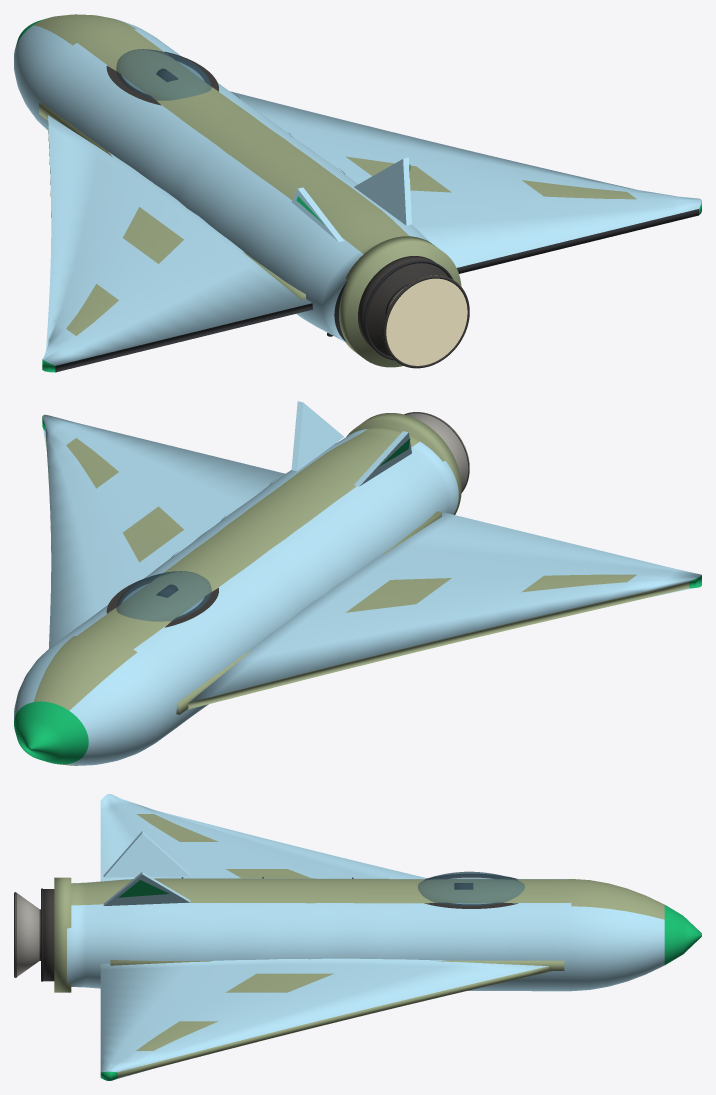
Rendered from Ship_Longwing_4.glb.
3 renders of one model, top to bottom at view 1: azimuth 30°, elevation 25°; view 2: azimuth 150°, elevation 25°; view 3: azimuth 270°, elevation 25°, orthographic. The views are drawn at different scales.
Visible parts, largest first — view 1: Fuselage_OrganicEllipsoidTaperedBody_BakedPaint, Wing_Left_LongDeltaAerofoil_BakedPaint, Wing_Right_LongDeltaAerofoil_BakedPaint, EngineEmitter, AftCollar_IntegratedSingleEngineBand, CanopyGlass_LowInsetDome, EngineBlock_AftDarkSingleEngineHousing, TailFin_Right_CantedStabilizer, CanopyFrame_DorsalOvalRim, EngineLip_Center_DarkWideRim, WingRoot_Left_EmbeddedShoulder, TailFin_Left_CantedStabilizer (+1 smaller); view 2: Fuselage_OrganicEllipsoidTaperedBody_BakedPaint, Wing_Left_LongDeltaAerofoil_BakedPaint, Wing_Right_LongDeltaAerofoil_BakedPaint, CanopyGlass_LowInsetDome, TailFin_Right_CantedStabilizer, AftCollar_IntegratedSingleEngineBand, EngineBell_Center_BroadBurnishedNozzle, CanopyFrame_DorsalOvalRim, TailFin_Left_CantedStabilizer, WingRoot_Left_EmbeddedShoulder; view 3: Fuselage_OrganicEllipsoidTaperedBody_BakedPaint, Wing_Right_LongDeltaAerofoil_BakedPaint, Wing_Left_LongDeltaAerofoil_BakedPaint, CanopyGlass_LowInsetDome, TailFin_Left_CantedStabilizer, AftCollar_IntegratedSingleEngineBand, EngineBell_Center_BroadBurnishedNozzle, TailFin_Right_CantedStabilizer, EngineBlock_AftDarkSingleEngineHousing, WingRoot_Right_EmbeddedShoulder, CanopyFrame_DorsalOvalRim, TailFin_Right_BakedTrimPatch.
Boxes of the visible parts, x1,y1,x2,y2 form: Fuselage_OrganicEllipsoidTaperedBody_BakedPaint: (14,14,429,342); Wing_Left_LongDeltaAerofoil_BakedPaint: (42,115,313,372); Wing_Right_LongDeltaAerofoil_BakedPaint: (230,91,701,273); EngineEmitter: (386,278,467,365); AftCollar_IntegratedSingleEngineBand: (339,236,461,367); CanopyGlass_LowInsetDome: (116,49,211,100); EngineBlock_AftDarkSingleEngineHousing: (358,256,448,356); TailFin_Right_CantedStabilizer: (354,157,411,225); CanopyFrame_DorsalOvalRim: (106,51,218,105); EngineLip_Center_DarkWideRim: (383,275,469,368); WingRoot_Left_EmbeddedShoulder: (39,102,305,299); TailFin_Left_CantedStabilizer: (291,187,344,241); Fuselage_OrganicEllipsoidTaperedBody_BakedPaint: (14,428,458,765); Wing_Left_LongDeltaAerofoil_BakedPaint: (187,512,701,709); Wing_Right_LongDeltaAerofoil_BakedPaint: (42,414,285,648); CanopyGlass_LowInsetDome: (116,571,211,621); TailFin_Right_CantedStabilizer: (291,401,343,471); AftCollar_IntegratedSingleEngineBand: (346,413,461,514); EngineBell_Center_BroadBurnishedNozzle: (404,412,469,492); CanopyFrame_DorsalOvalRim: (106,574,218,627); TailFin_Left_CantedStabilizer: (354,431,411,486); WingRoot_Left_EmbeddedShoulder: (176,511,441,714); Fuselage_OrganicEllipsoidTaperedBody_BakedPaint: (67,878,701,991); Wing_Right_LongDeltaAerofoil_BakedPaint: (100,958,551,1080); Wing_Left_LongDeltaAerofoil_BakedPaint: (100,794,426,881); CanopyGlass_LowInsetDome: (418,871,524,906); TailFin_Left_CantedStabilizer: (103,831,190,877); AftCollar_IntegratedSingleEngineBand: (54,877,71,992); EngineBell_Center_BroadBurnishedNozzle: (15,892,39,977); TailFin_Right_CantedStabilizer: (103,872,190,905); EngineBlock_AftDarkSingleEngineHousing: (43,889,54,981); WingRoot_Right_EmbeddedShoulder: (110,960,564,970); CanopyFrame_DorsalOvalRim: (424,874,518,908); TailFin_Right_BakedTrimPatch: (118,880,169,897).
Bounding box in the file's own units: 6.83 × 1.57 × 7.15.
